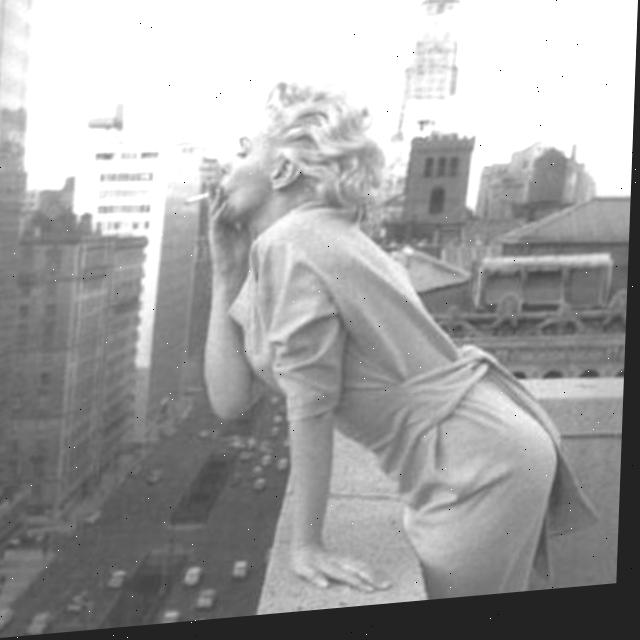cigarette: (184, 192, 223, 211)
